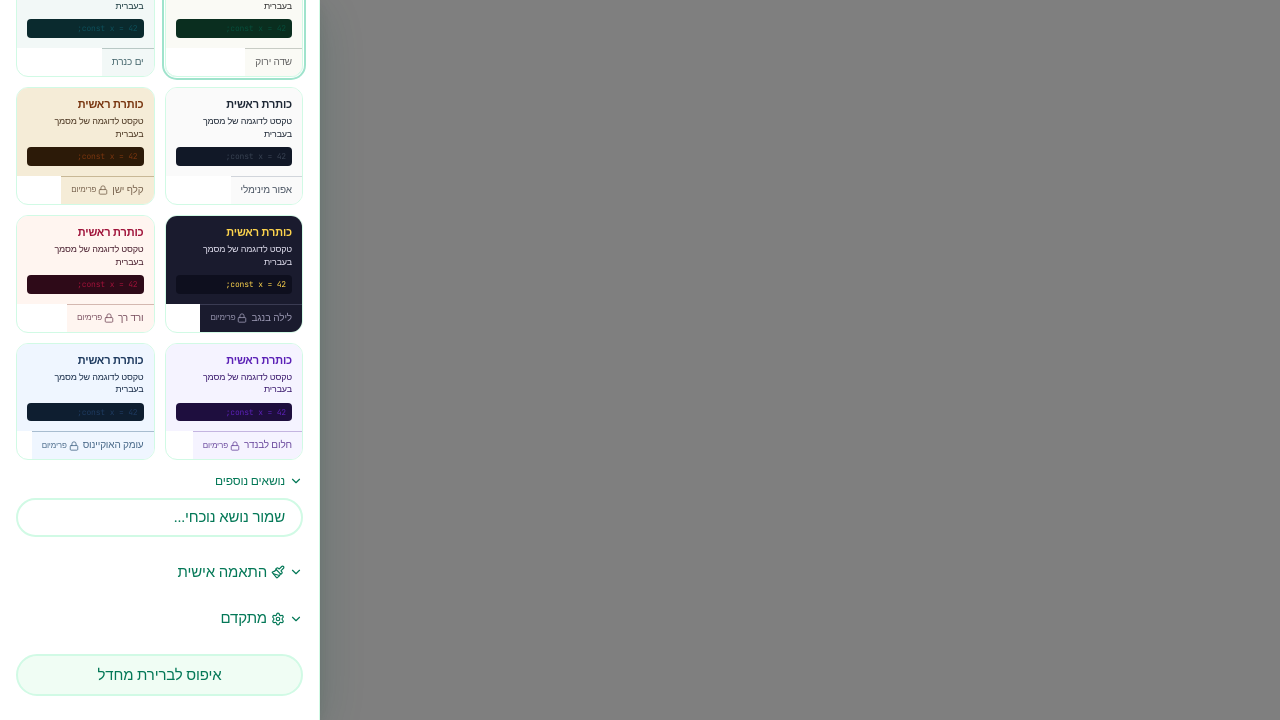
it: ColorPanel — image color extraction (Story 2.4, inside Advanced) › renders "העלה תמונה" button when Advanced is expanded
This screenshot has width=1280, height=720.
(page scrolled)
Click the button with aria-label "מתקדם" at (244, 618), box x1=16 y1=607 x2=303 y2=630
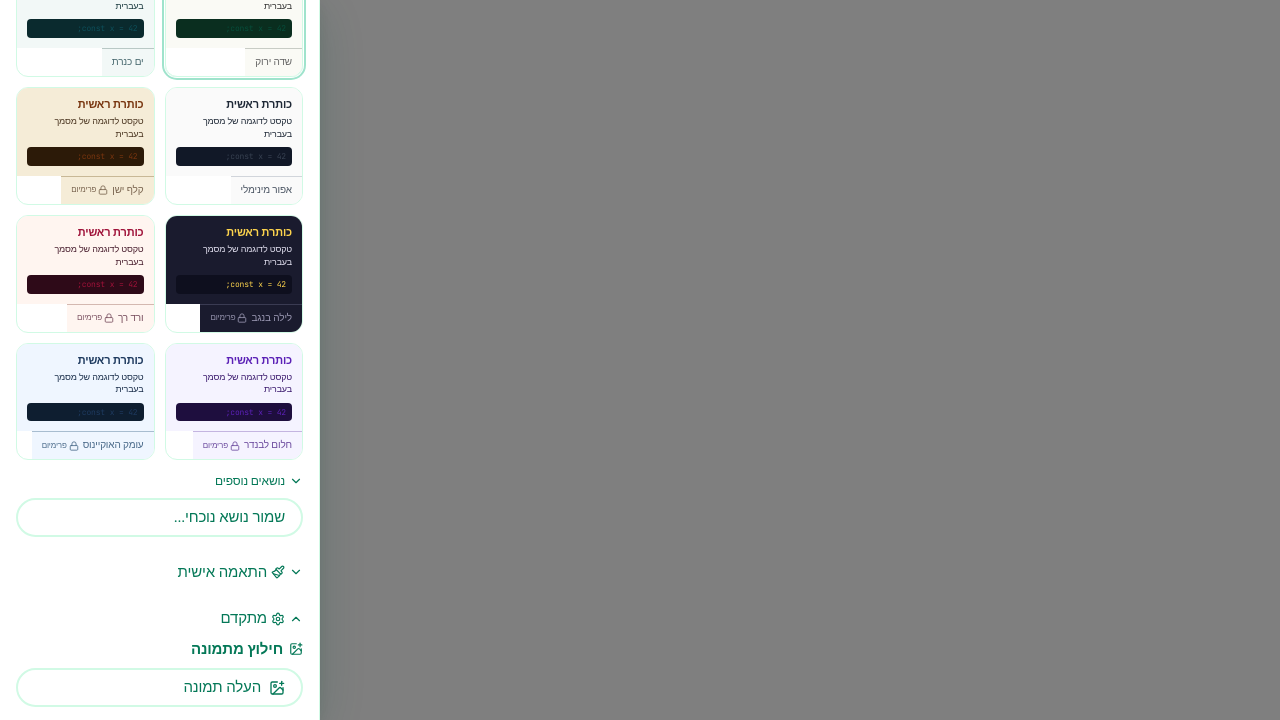
Now the button "העלה תמונה" is shown, box x1=16 y1=668 x2=303 y2=707
